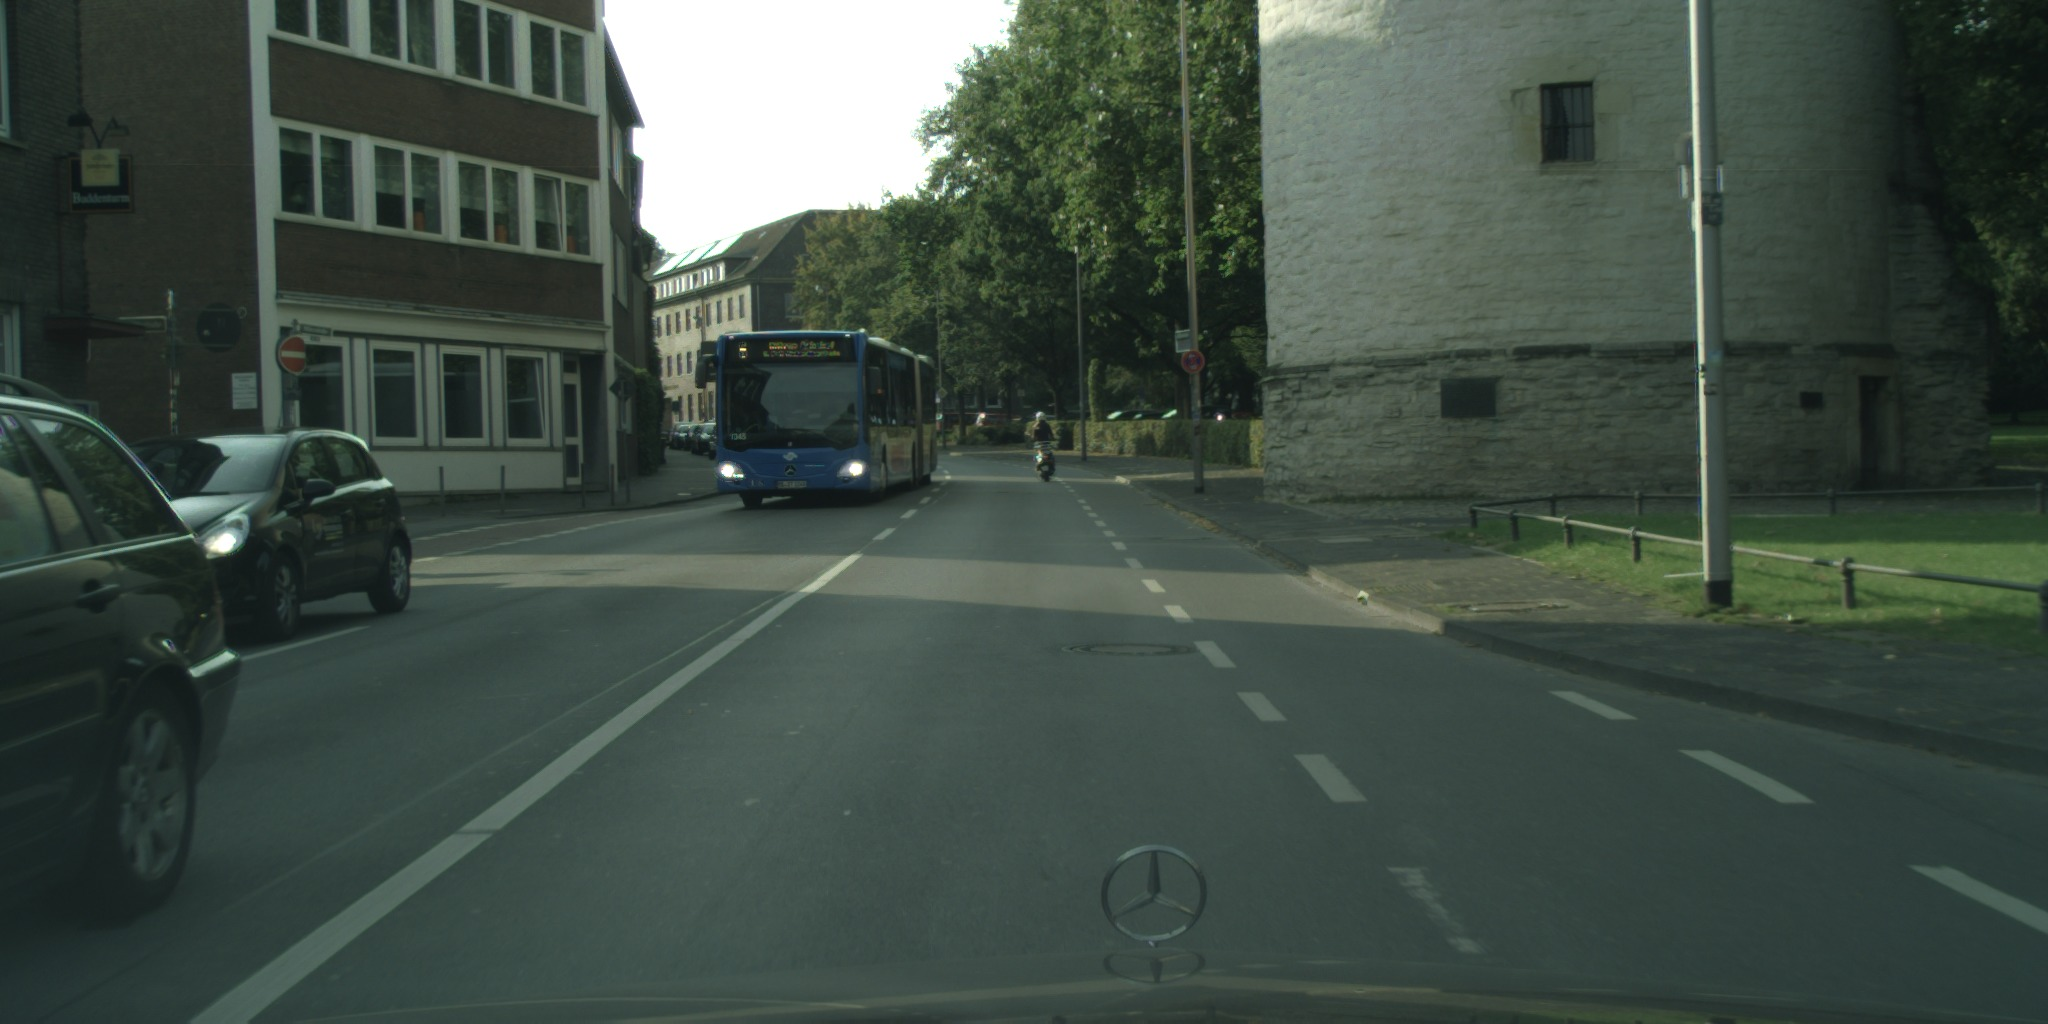bus: (694, 328, 938, 508), (926, 410, 1029, 431)
car: (0, 371, 241, 933), (119, 427, 413, 643), (1157, 405, 1239, 423), (1100, 408, 1173, 427), (974, 414, 1025, 434), (691, 423, 718, 455), (1128, 410, 1169, 428), (671, 424, 694, 451), (707, 424, 720, 462), (685, 425, 699, 452)
motorcycle: (1032, 443, 1056, 483)
rider: (1031, 411, 1056, 458)
